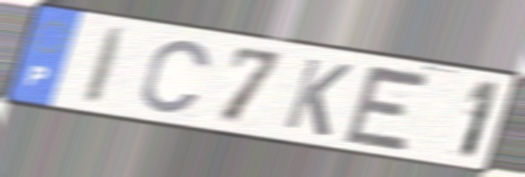1: (457, 77, 503, 164)
7: (221, 44, 284, 128)
C: (137, 37, 215, 116)
E: (339, 61, 436, 155)
I: (79, 24, 133, 109)
K: (279, 54, 356, 140)
